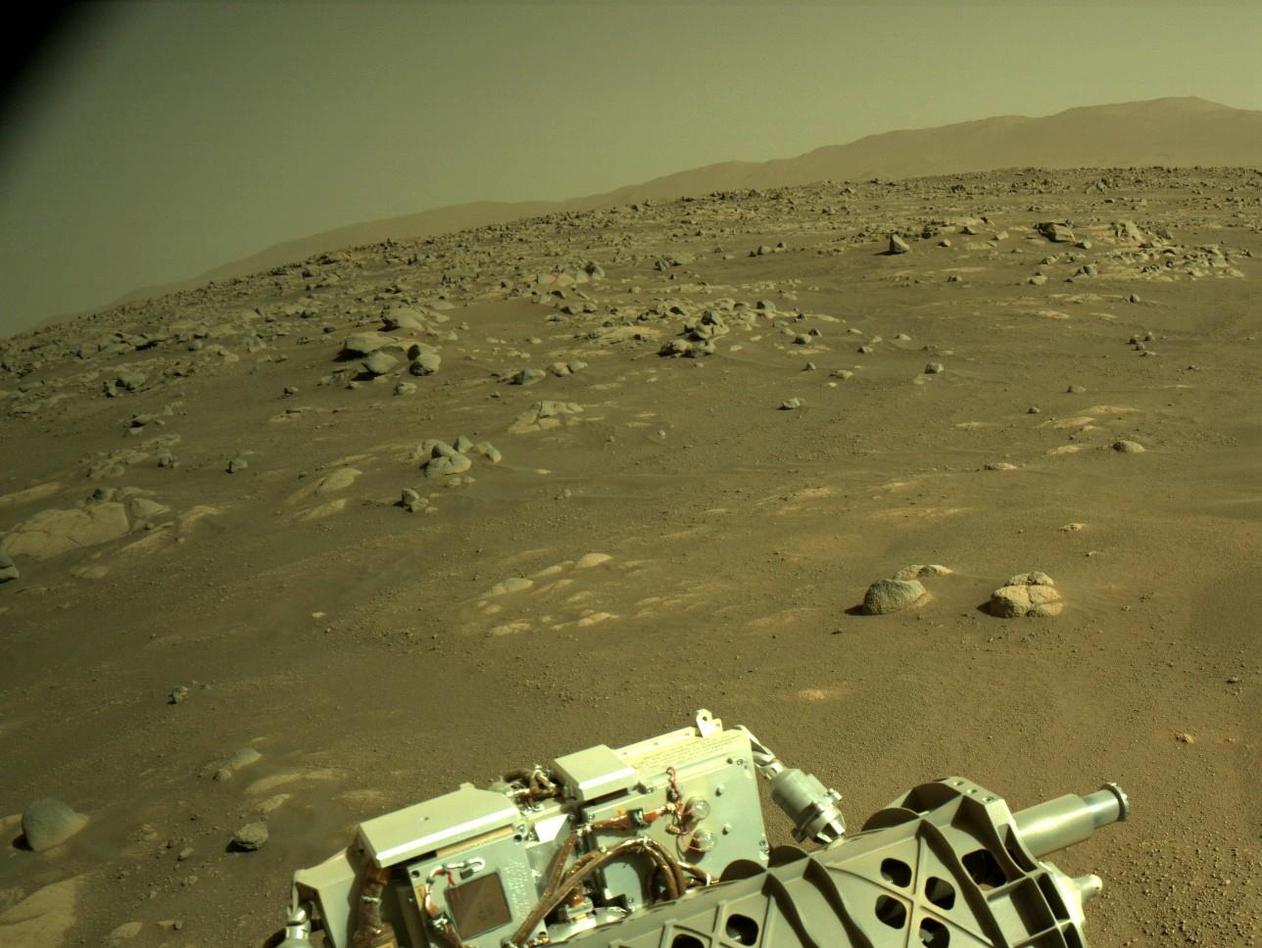bedrock: (7, 167, 1260, 606), (432, 384, 1204, 652), (8, 728, 518, 940), (1145, 940, 1248, 944), (326, 351, 341, 364), (355, 389, 378, 394), (314, 380, 325, 384), (25, 430, 38, 433), (1103, 934, 1106, 938), (346, 379, 356, 380)
big_rock: (384, 243, 425, 250), (8, 823, 10, 831), (6, 834, 7, 839)
sand: (1251, 416, 1253, 508), (1259, 429, 1260, 447)
soil: (2, 450, 1261, 940), (1205, 285, 1258, 426), (47, 397, 221, 428), (221, 904, 275, 938), (3, 434, 24, 480)
